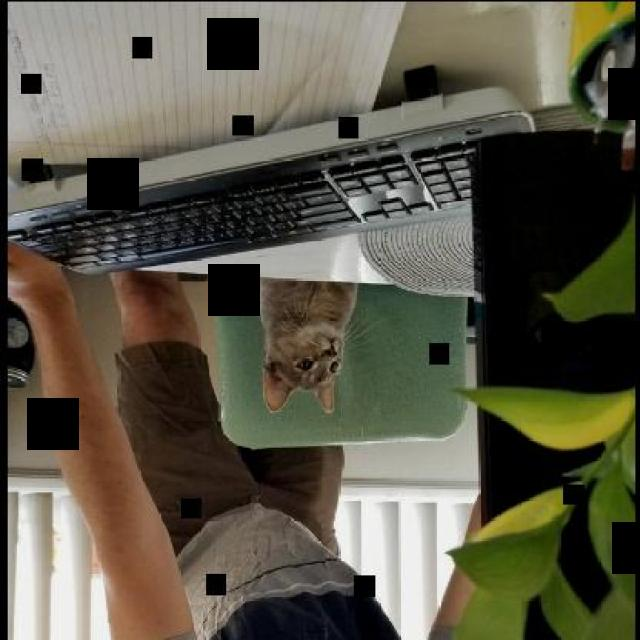unauthorized: (246, 275, 371, 414)
